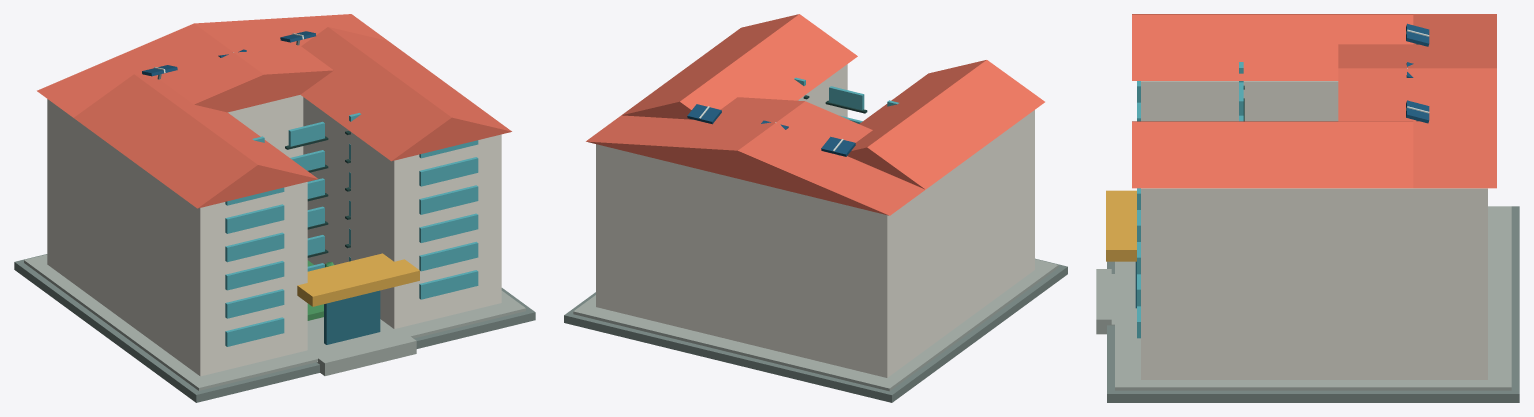
The model's file is school_lv4.glb.
The picture shows the model from 3 angles, left to right: view 1: azimuth 30°, elevation 25°; view 2: azimuth 150°, elevation 25°; view 3: azimuth 270°, elevation 25°; orthographic projection. The views are drawn at different scales.
Parts seen in each view (by area): view 1: ivory, coral, glass, concrete, pavement, gold, glassDark, dark, solar; view 2: ivory, coral, concrete, pavement, solar, glass; view 3: ivory, coral, concrete, pavement, gold, glass, solar.
Boxes of the visible parts, left/top/right/bottom form: ivory: left=47, top=95, right=501, bottom=376; coral: left=37, top=14, right=511, bottom=208; glass: left=225, top=113, right=478, bottom=346; concrete: left=24, top=254, right=525, bottom=390; pavement: left=14, top=254, right=535, bottom=402; gold: left=297, top=253, right=419, bottom=306; glassDark: left=324, top=290, right=380, bottom=344; dark: left=285, top=131, right=350, bottom=257; solar: left=142, top=31, right=315, bottom=76; ivory: left=596, top=64, right=1034, bottom=377; coral: left=586, top=14, right=1044, bottom=215; concrete: left=573, top=259, right=1058, bottom=391; pavement: left=564, top=258, right=1067, bottom=402; solar: left=687, top=104, right=855, bottom=156; glass: left=794, top=77, right=898, bottom=123; ivory: left=1141, top=81, right=1487, bottom=379; coral: left=1132, top=14, right=1496, bottom=188; concrete: left=1096, top=206, right=1511, bottom=390; pavement: left=1107, top=206, right=1519, bottom=402; gold: left=1106, top=190, right=1136, bottom=261; glass: left=1137, top=62, right=1243, bottom=338; solar: left=1406, top=23, right=1429, bottom=123.
Size of the model in its own units: 9.8 by 5.86 by 9.34.
